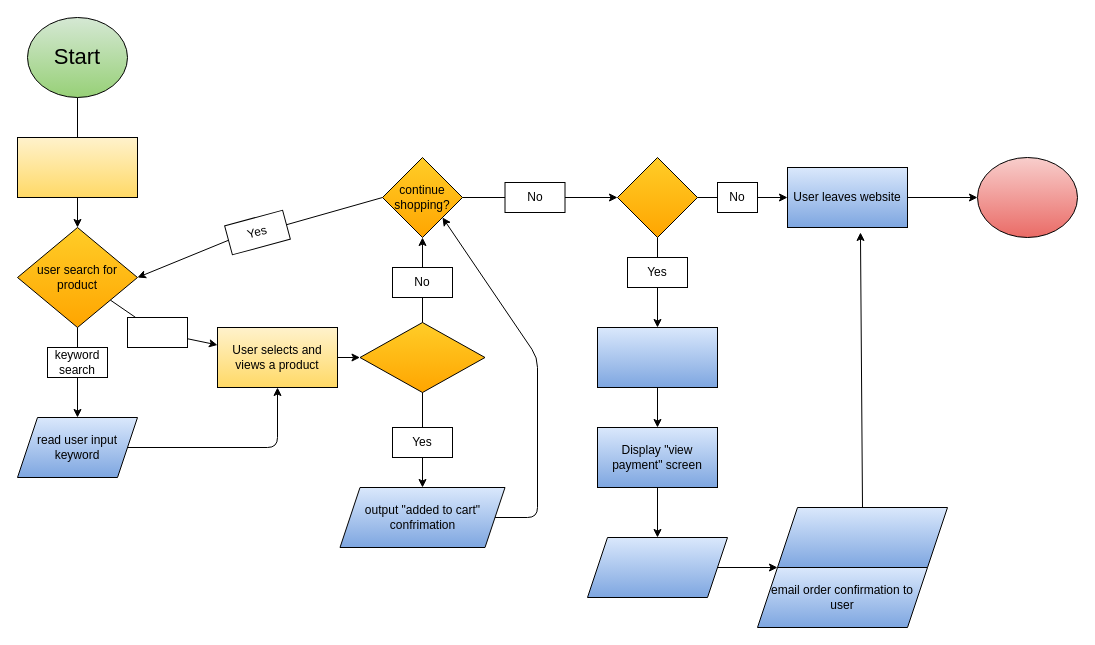
Image size: 1095x645. Some labels were removed from this diagram. The shapes that lost their labels are listed below. From the top down, each one's box as (x1, y1, x2, y2) in pixels, then its label:
(16, 136, 138, 198): User enters website
(616, 156, 698, 238): checkout?
(976, 156, 1078, 238): End
(126, 316, 188, 348): explore homepage
(359, 322, 485, 392): add product to cart?
(596, 326, 718, 388): Display "view cart" screen
(776, 506, 948, 568): ouput "order confirmed" confirmation
(586, 536, 728, 598): read user payment information
